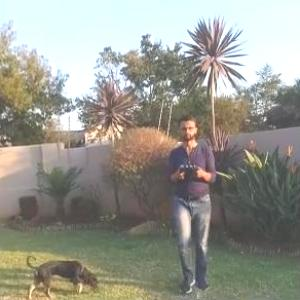follow: (170, 109, 220, 297)
null: (21, 250, 102, 299)
